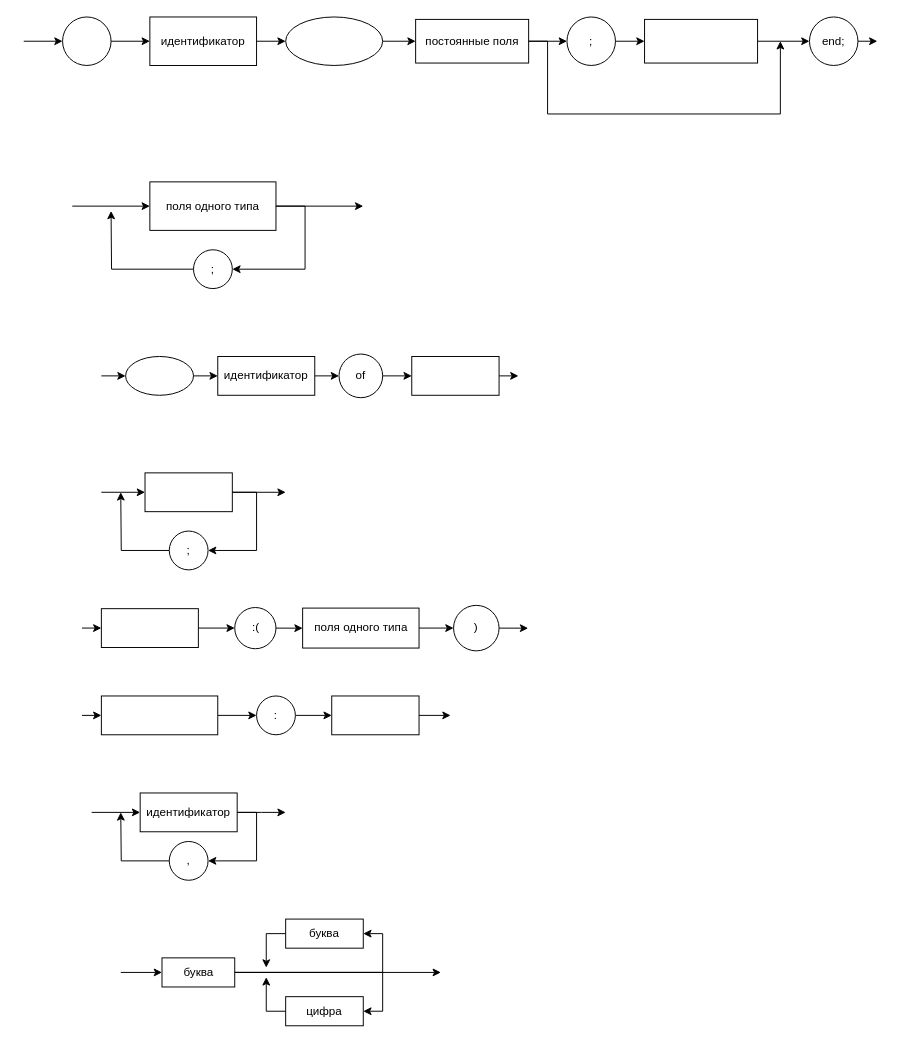
Some shapes in this 902 by 1043 pixel diagram are drawn without their labels. The shapes that lost their labels are listed below. From the top down, each one's box as (x1, y1, x2, y2) in pixels, then its label:
(62, 16, 111, 65): var
(285, 16, 383, 65): :record
(644, 18, 758, 63): поля с вариантами
(125, 356, 194, 395): case
(411, 356, 499, 395): случаи
(144, 472, 232, 512): случай
(100, 608, 198, 647): ключ
(100, 695, 218, 735): идентификаторы
(331, 695, 419, 735): тип
